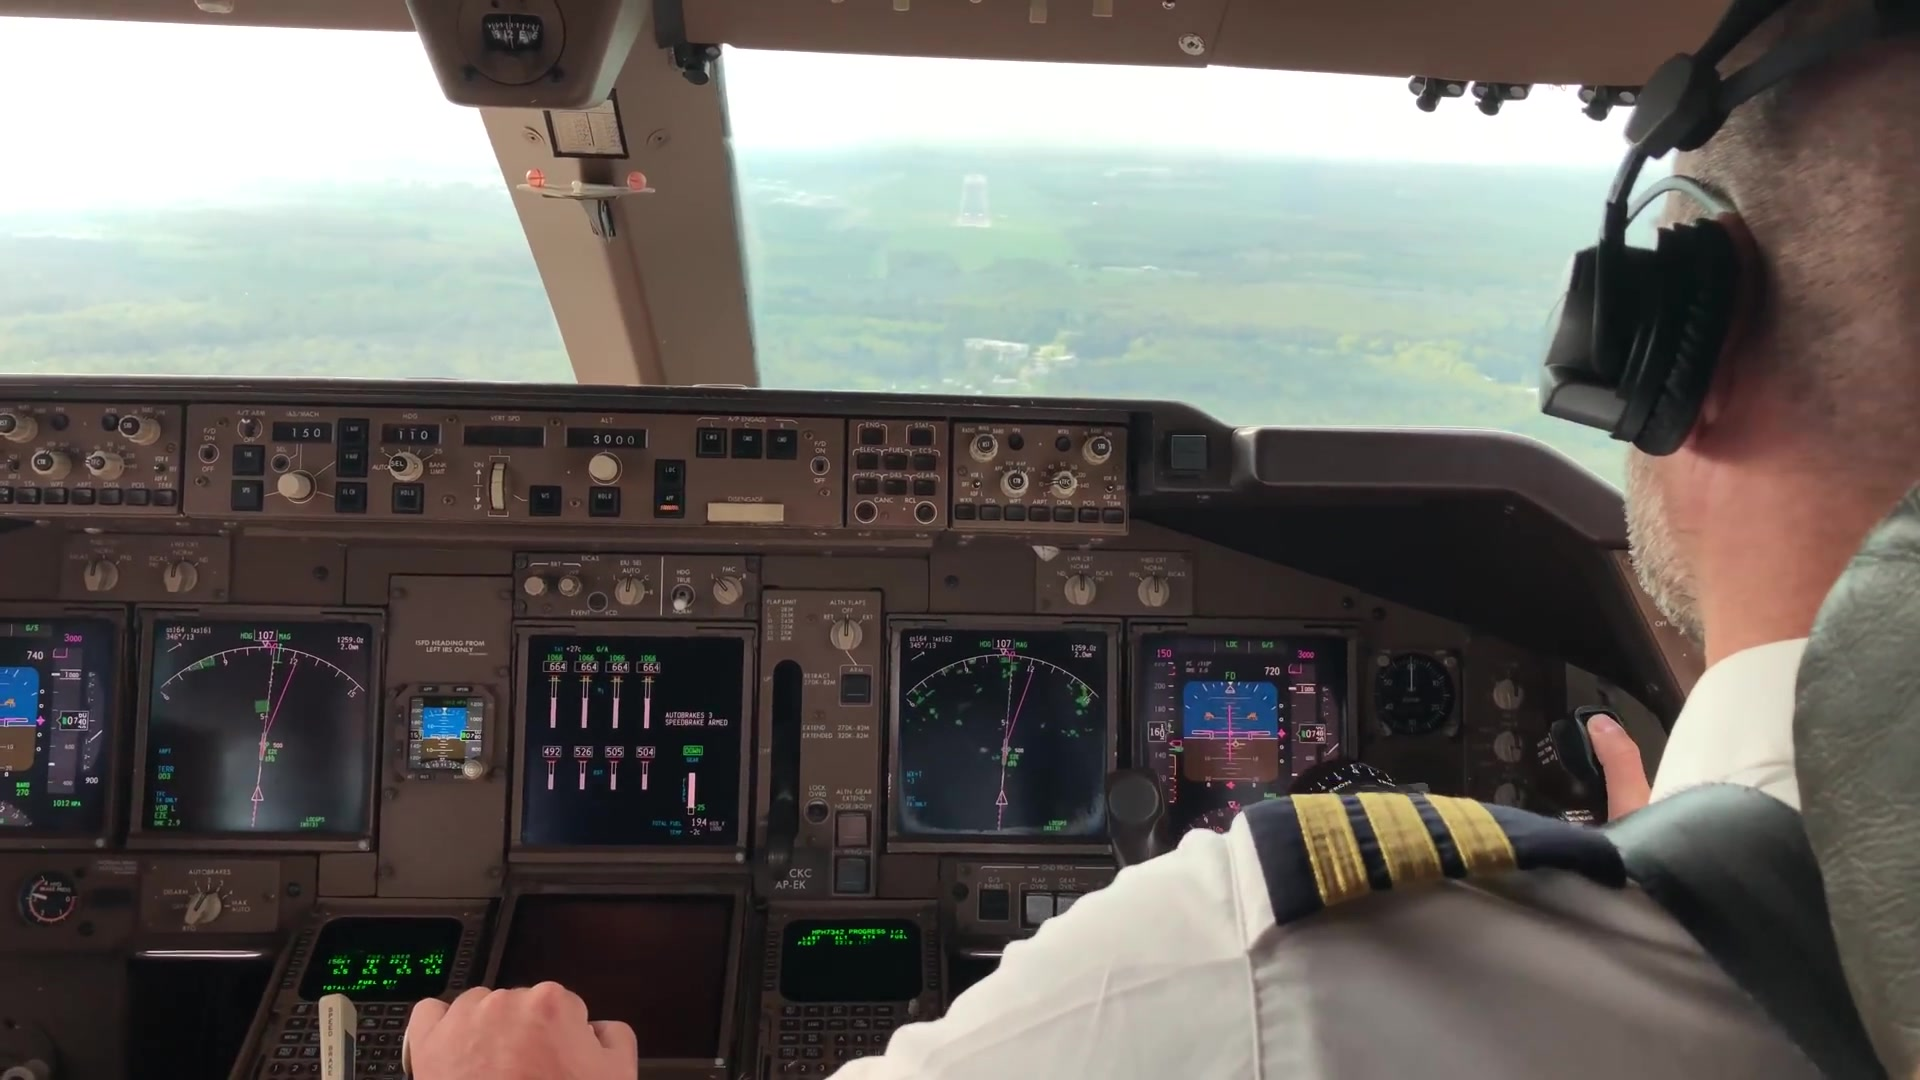runway: (952, 171, 992, 229)
